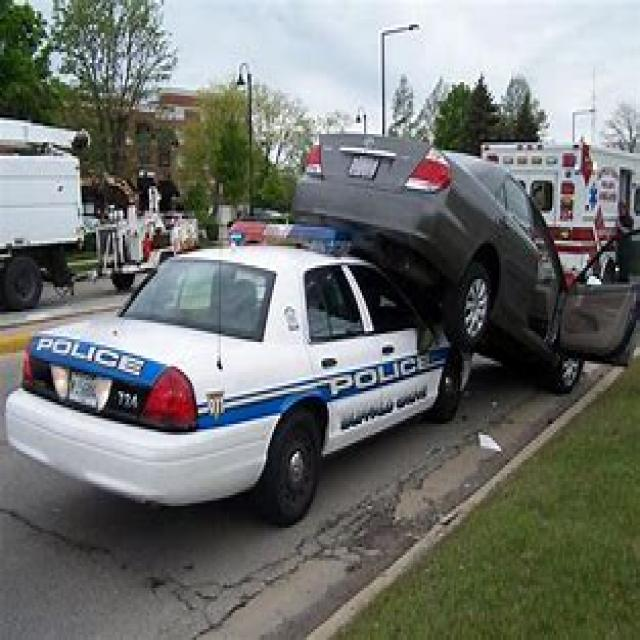Accident: (83, 82, 640, 562)
